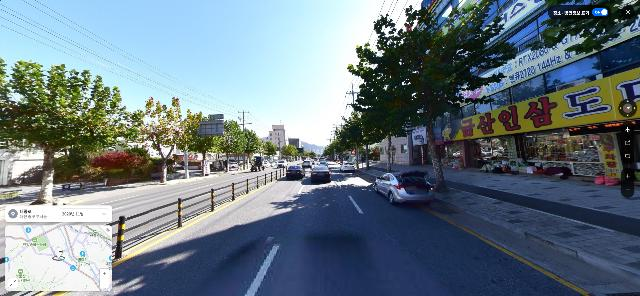other: (346, 0, 518, 193), (1, 57, 128, 205), (347, 82, 419, 173), (127, 96, 190, 184), (175, 109, 220, 176), (323, 115, 373, 169), (213, 118, 244, 172), (88, 151, 143, 180), (241, 127, 259, 168), (279, 145, 313, 163), (264, 140, 278, 160), (368, 147, 381, 158)
